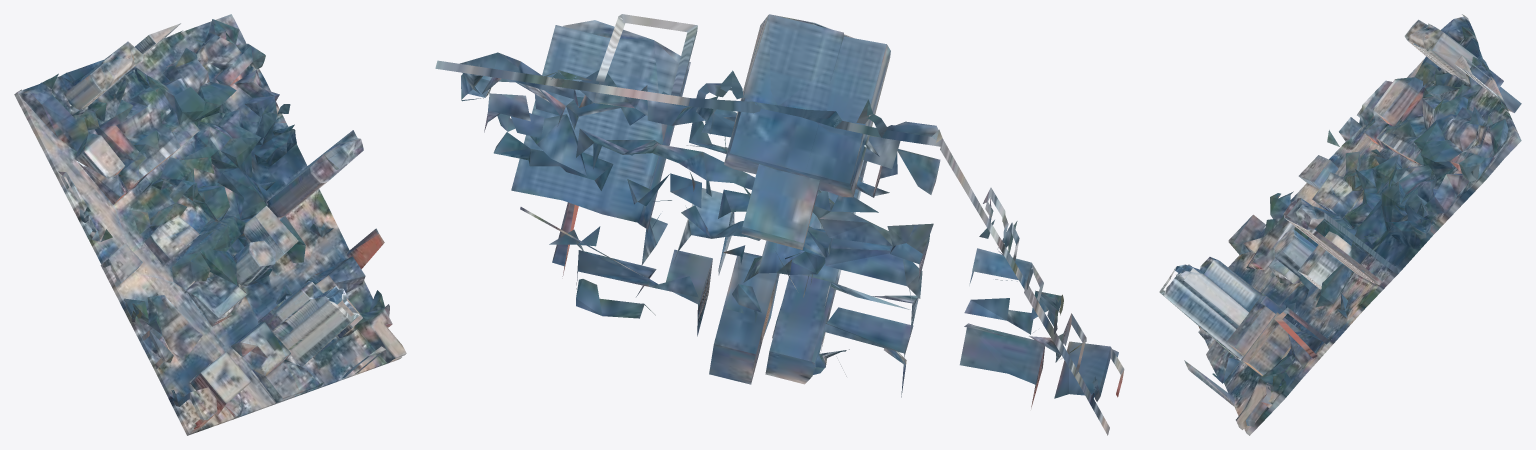
Rendered from AJVsH2ytZZ-MBLKkEZGnXU_3krEElIFwskUYhJbSxzd-PgHuwE7E1StiWytAqLmWb3QLPSLmqfse5lDJ8L4G8tBhWF1JZeEkhUwdmkZREia7H6zfzMvwG__QzkSqCGUAaWrPeO-HtsvoYoa2qfBgArej2CinXmDGmA.glb.
3 views of the same model, side by side, from view 1: azimuth 30°, elevation 25°; view 2: azimuth 150°, elevation 25°; view 3: azimuth 270°, elevation 25° (orthographic). The views are drawn at different scales.
Size of the model in its own units: 258 by 256 by 270.
Materials: 1 (1 with a texture image).
